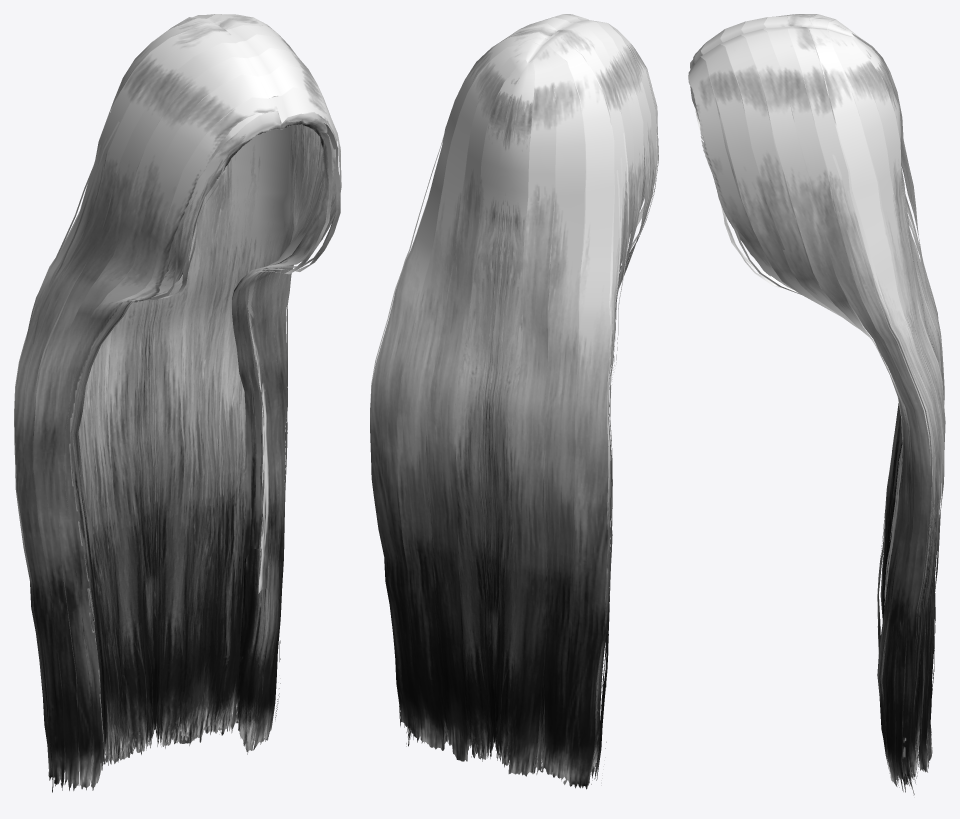
The model's file is long.glb.
3 renders of one model, left to right at view 1: azimuth 30°, elevation 25°; view 2: azimuth 150°, elevation 25°; view 3: azimuth 270°, elevation 25°, orthographic. The views are drawn at different scales.
Parts seen in each view (by area): view 1: long; view 2: long; view 3: long.
Part boxes in pixels (x1,y1,x2,y2): long: [14, 14, 341, 792]; long: [370, 14, 658, 789]; long: [688, 14, 945, 795].
Bounding box in the file's own units: 0.2522 × 0.7102 × 0.2237.
1 material, 1 textured.
